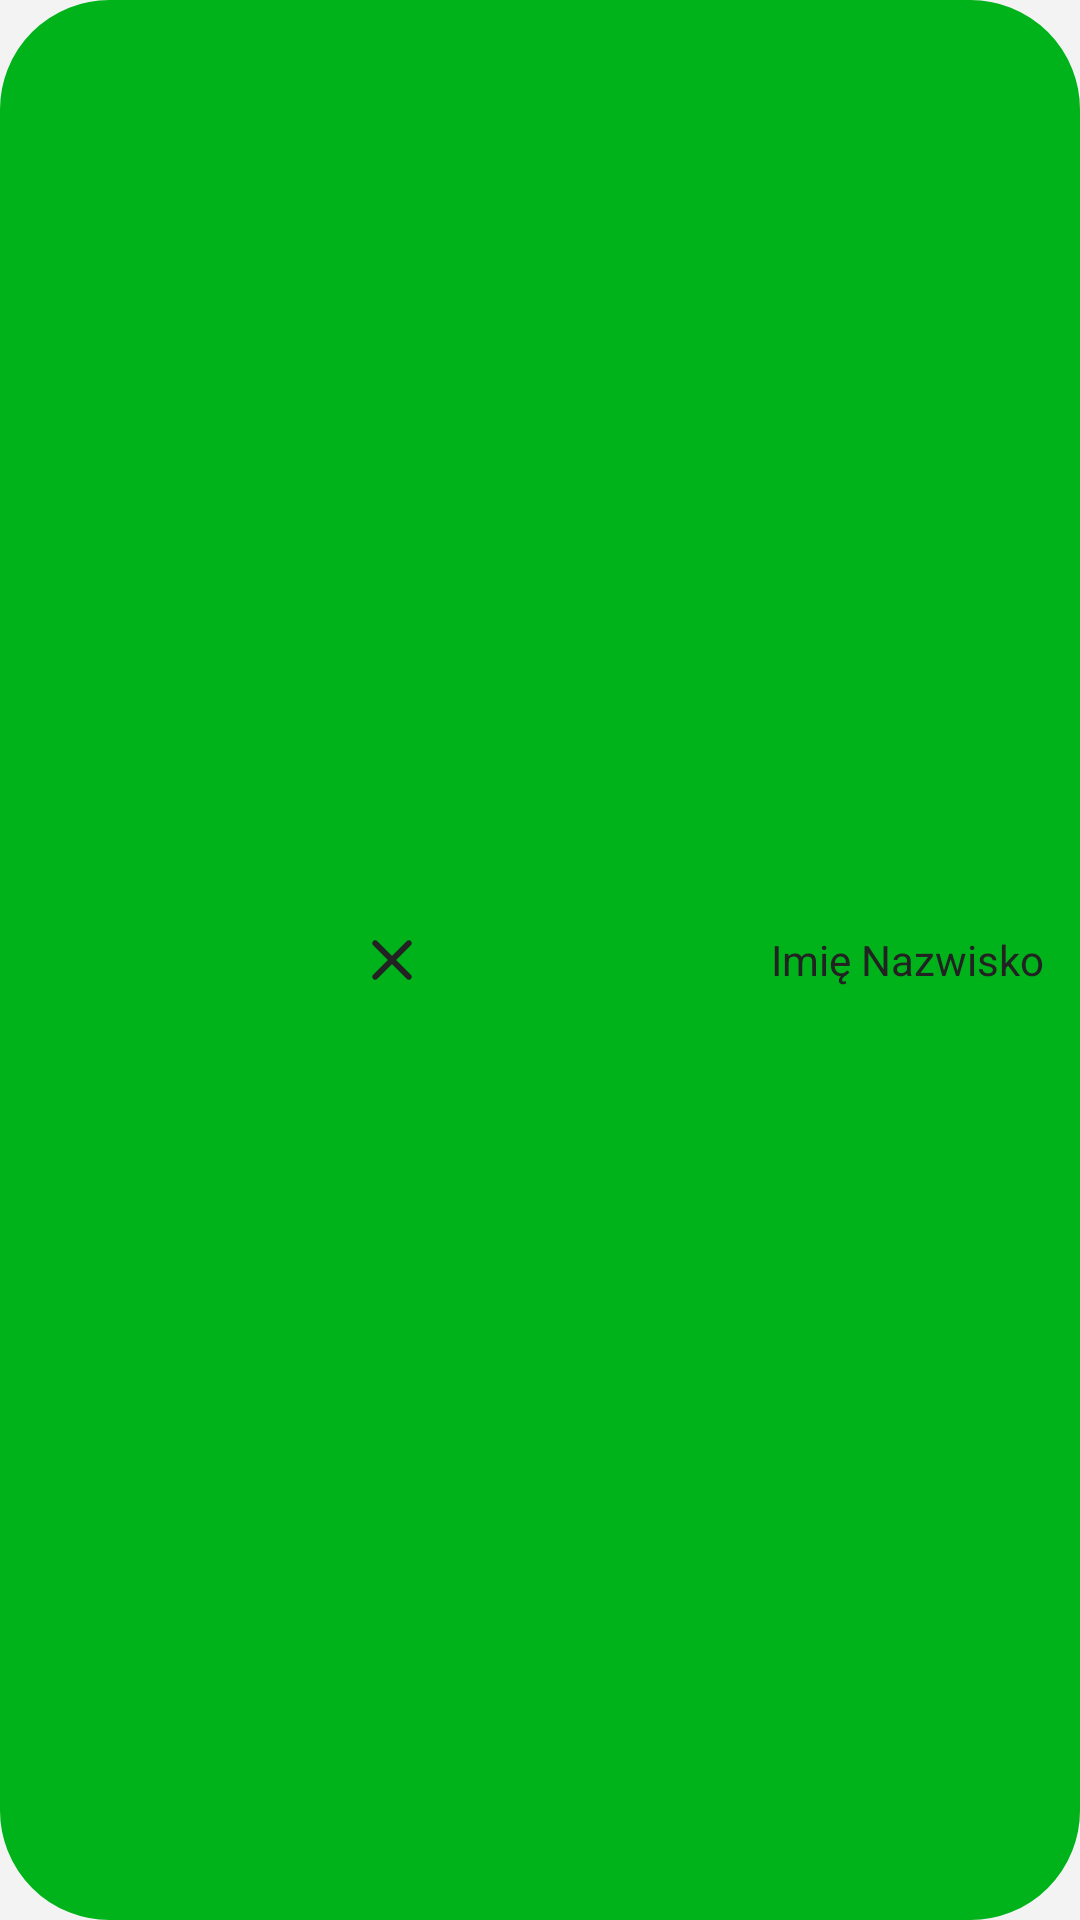

Where to tap for icons on this 1080x1920 app screen, as (x,y):
close: (392,960)
